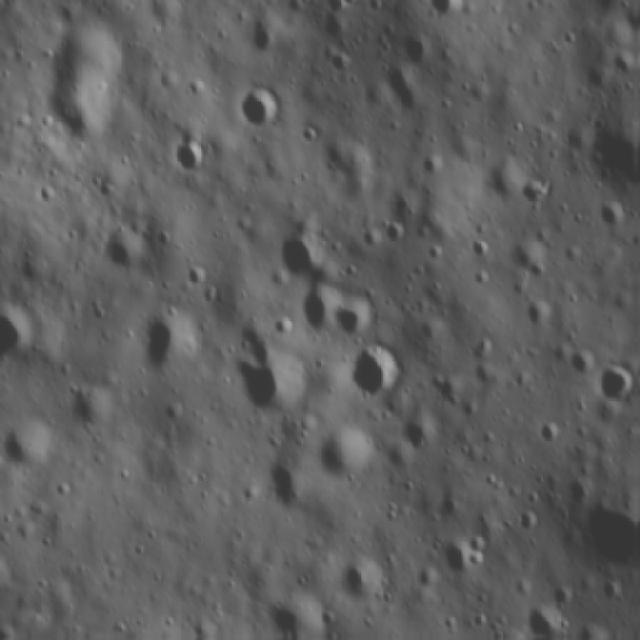crater: (239, 337, 313, 418), (42, 82, 118, 156), (575, 502, 640, 576), (314, 425, 380, 490), (258, 458, 320, 524), (141, 310, 196, 382), (274, 230, 334, 288), (349, 348, 408, 406), (3, 423, 59, 480), (98, 232, 153, 283), (486, 158, 539, 208), (257, 596, 320, 638), (241, 84, 290, 134), (339, 562, 390, 610), (74, 385, 120, 437), (382, 68, 424, 122), (298, 287, 342, 338), (334, 294, 375, 344), (442, 537, 482, 585), (600, 363, 638, 411), (524, 602, 574, 638), (401, 34, 441, 75), (406, 416, 440, 459), (524, 302, 561, 340), (520, 179, 557, 216), (178, 140, 212, 178), (570, 351, 604, 384), (540, 423, 571, 457), (598, 201, 628, 234), (181, 264, 213, 294), (422, 155, 451, 182), (327, 52, 356, 79), (520, 512, 546, 540), (385, 224, 410, 251), (159, 227, 183, 255), (361, 229, 385, 256), (473, 237, 495, 263), (305, 122, 323, 150)
